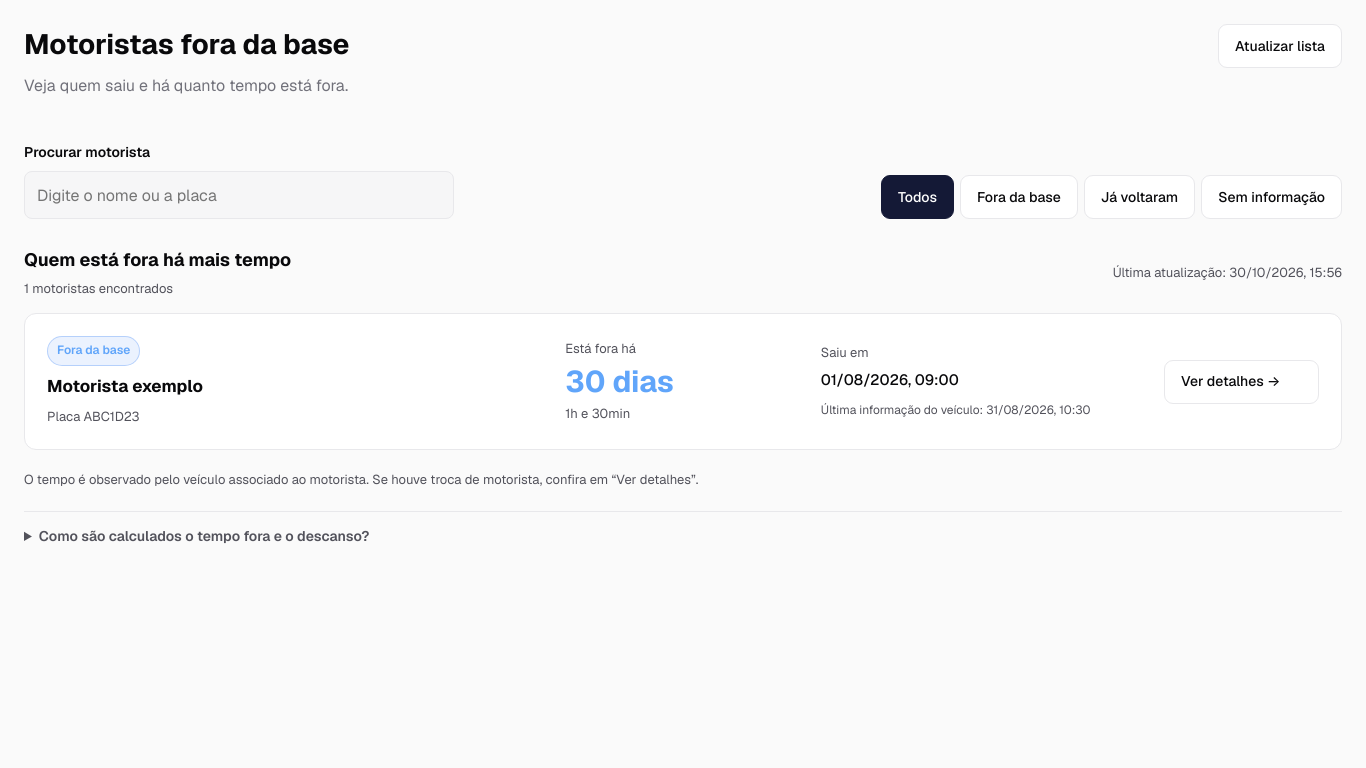
Test case: remove macros e saldo presumido e exige fim de jornada informado no planejador
Click the button with aria-label "Ver detalhes de Motorista exemplo": (1242, 382) x1=1164 y1=360 x2=1319 y2=404
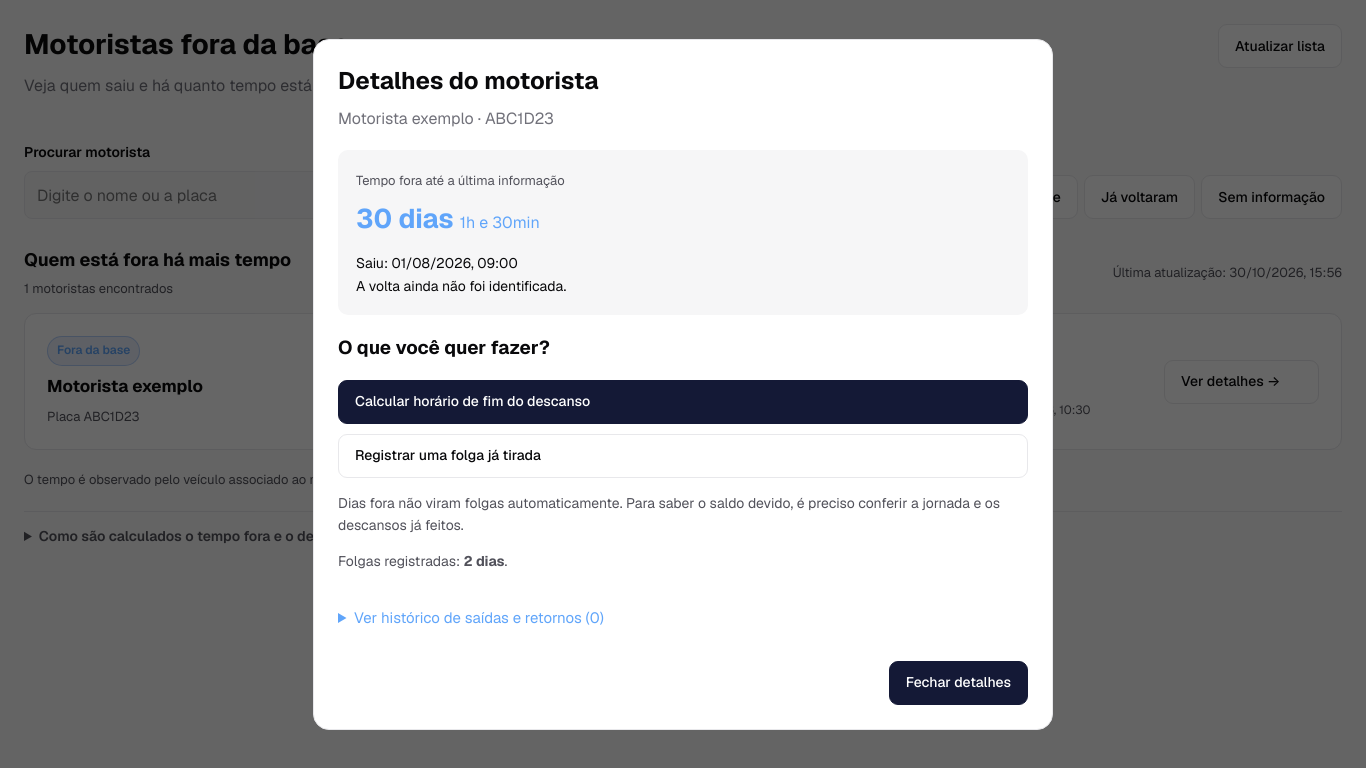
Expected: the dialog is shown, x1=313 y1=38 x2=1053 y2=730
Click the button "Calcular horário de fim do descanso": (473, 401) x1=338 y1=380 x2=1028 y2=424
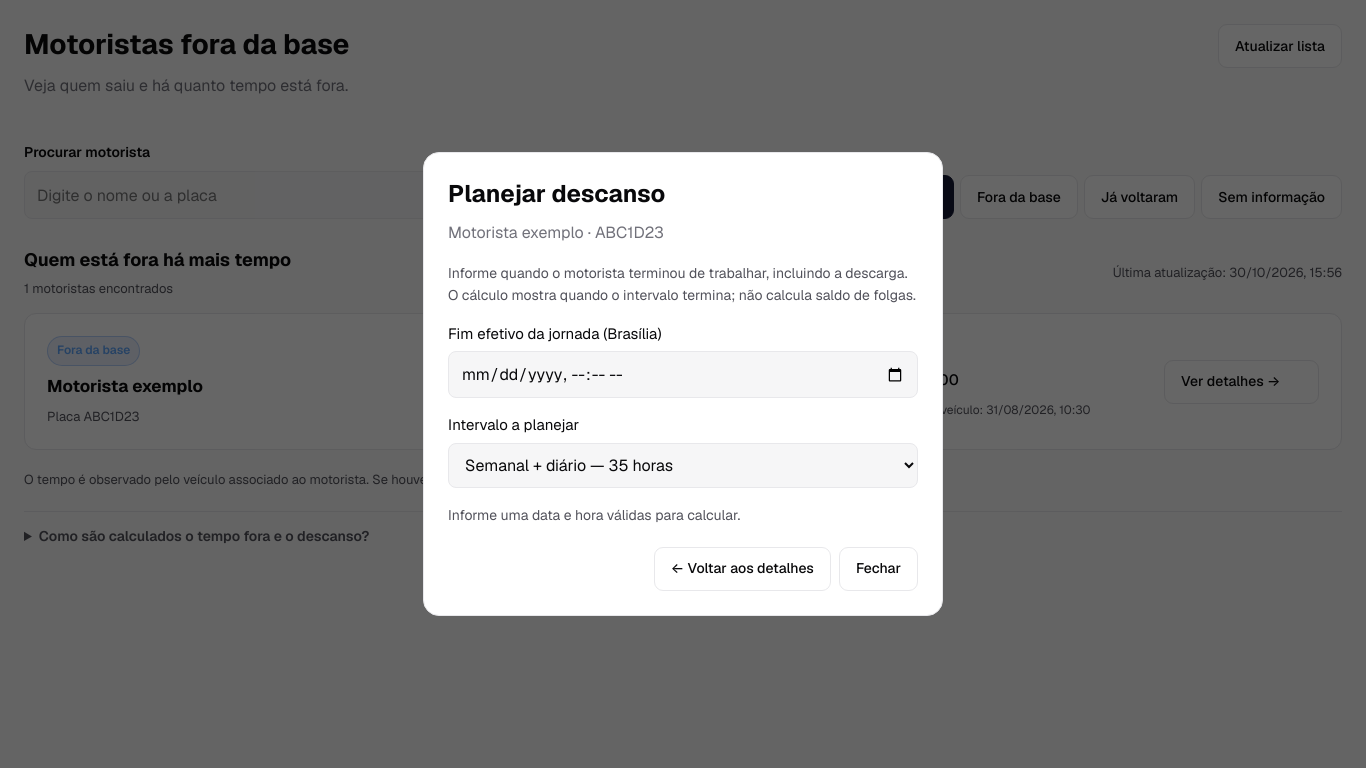
Expected: the field labelled "Fim efetivo da jornada (Brasília)" is empty
In the field labelled "Fim efetivo da jornada (Brasília)": (683, 375) x1=448 y1=351 x2=918 y2=398, type "2026-09-14T18:00"
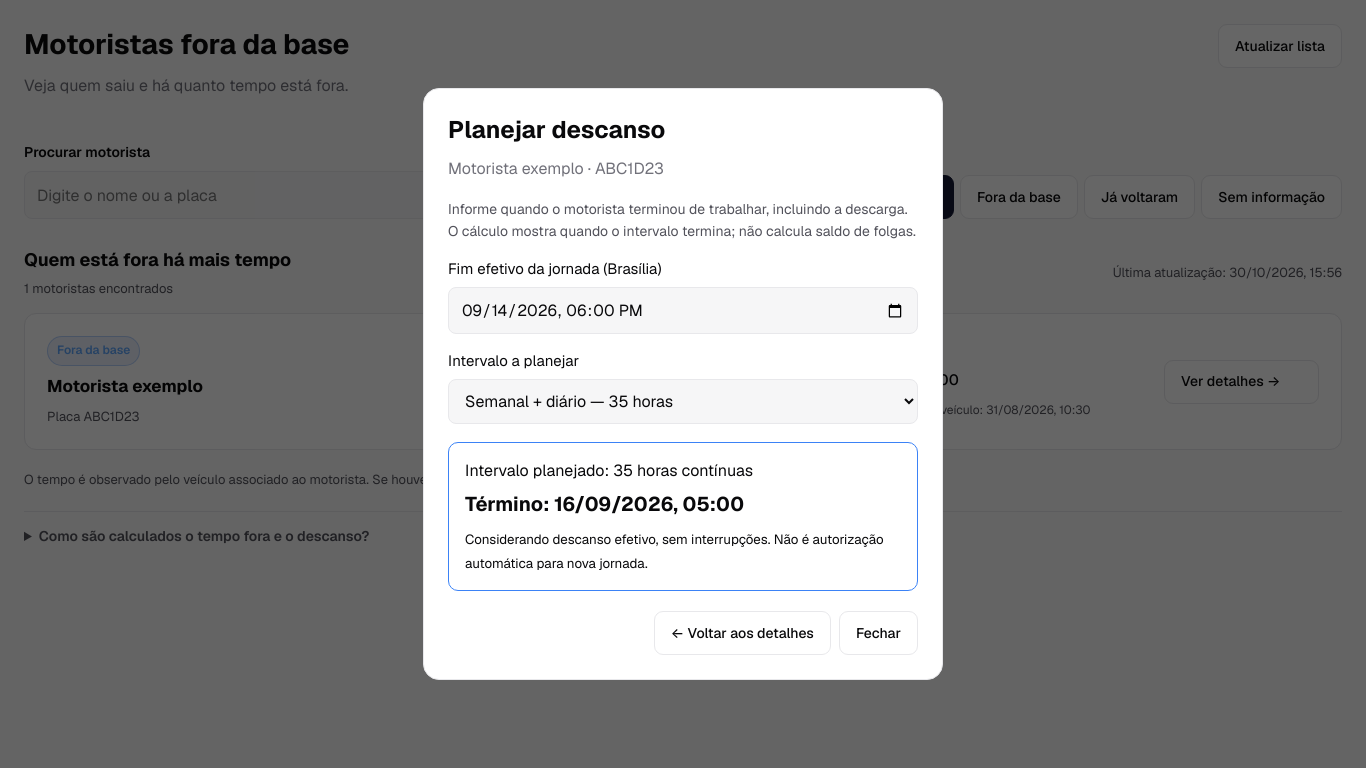
Expected: the text "Intervalo planejado: 35 horas contínuas" is shown, x1=465 y1=460 x2=753 y2=481
Select "Entre jornadas — 11 horas" in the dropdown labelled "Intervalo a planejar": (683, 402) x1=448 y1=379 x2=918 y2=424
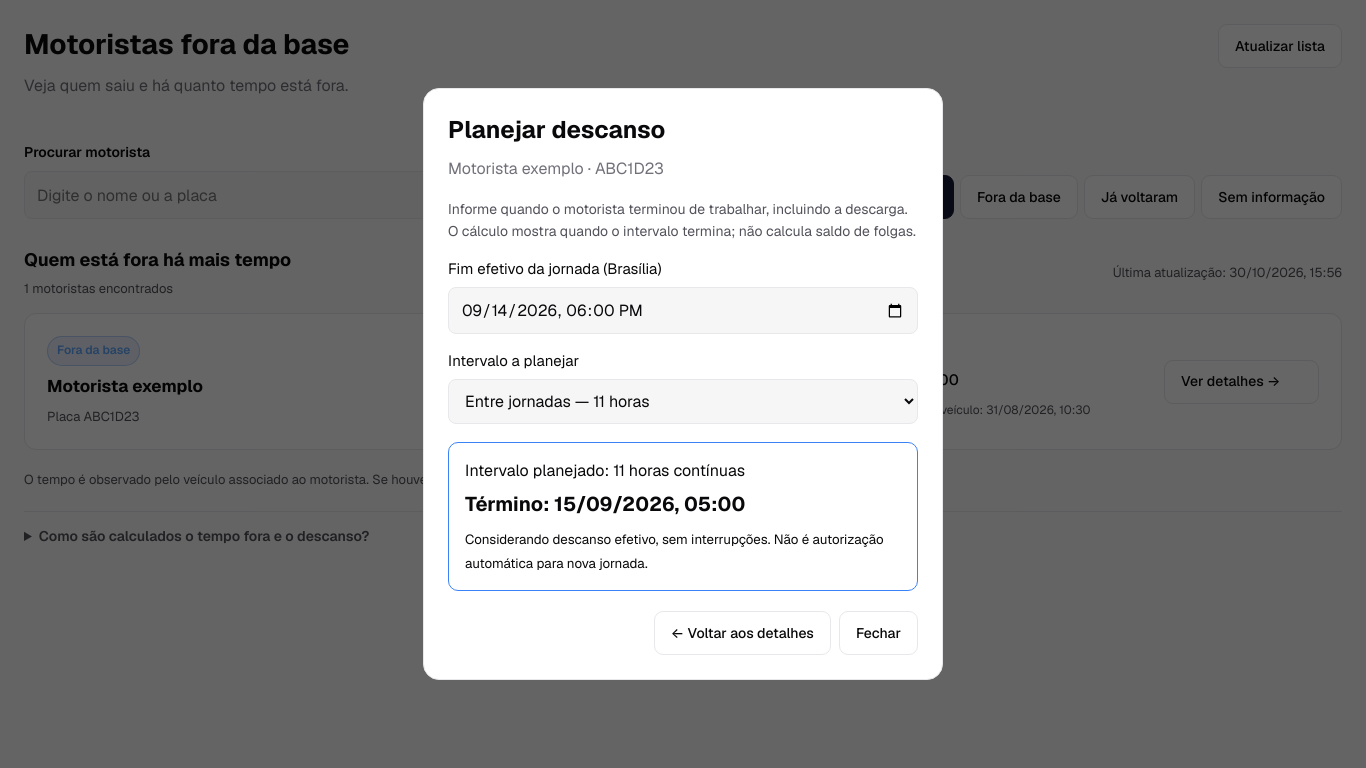
Expected: the text "Intervalo planejado: 11 horas contínuas" is shown, x1=465 y1=460 x2=745 y2=481
